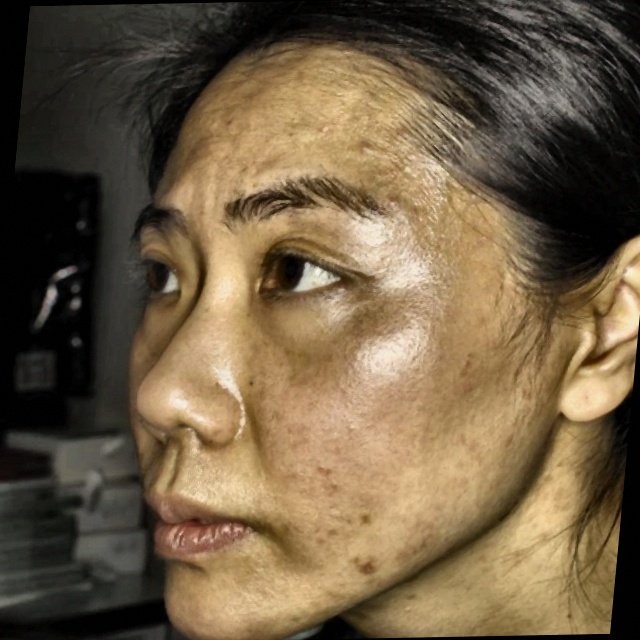comedone: (342, 547, 380, 597), (346, 130, 384, 177)
